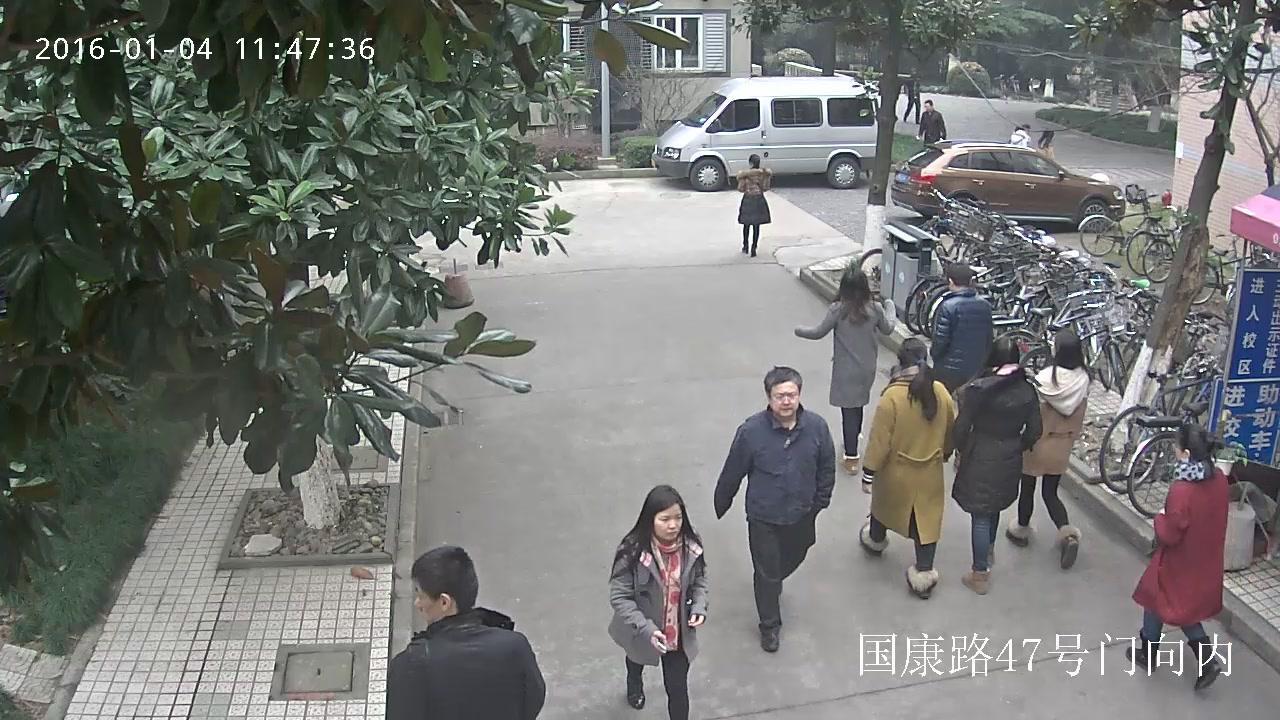person: (713, 365, 837, 654), (386, 544, 548, 720), (1125, 422, 1229, 689), (857, 338, 957, 598), (607, 484, 709, 720), (952, 337, 1043, 594), (794, 267, 896, 477), (1003, 328, 1091, 568), (928, 263, 994, 390), (736, 154, 772, 256), (914, 99, 946, 148), (903, 75, 921, 123), (1036, 129, 1057, 163), (1009, 127, 1032, 148)
